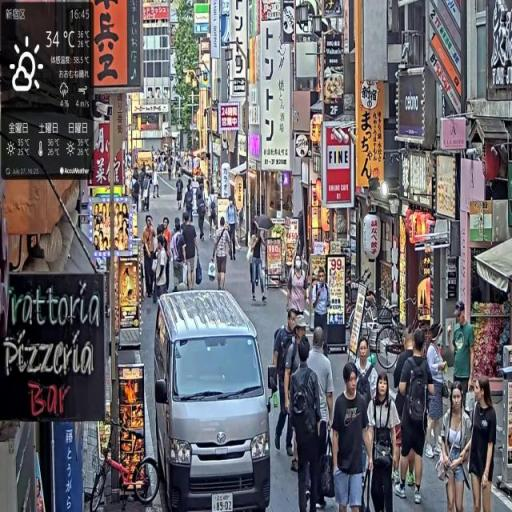person: (288, 335, 329, 512), (395, 330, 436, 504), (331, 359, 374, 511), (366, 369, 403, 512), (309, 328, 336, 503), (439, 383, 474, 512), (469, 376, 498, 512), (273, 312, 300, 456), (452, 303, 476, 416), (212, 217, 233, 292), (142, 215, 159, 302), (250, 228, 269, 305), (183, 213, 201, 291), (227, 194, 240, 263)
